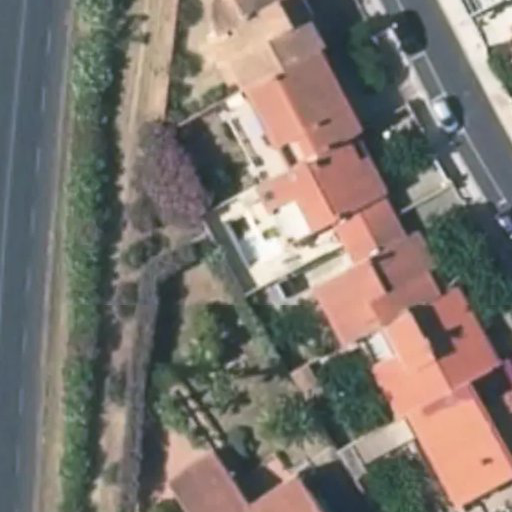pool: (226, 224, 285, 254)
